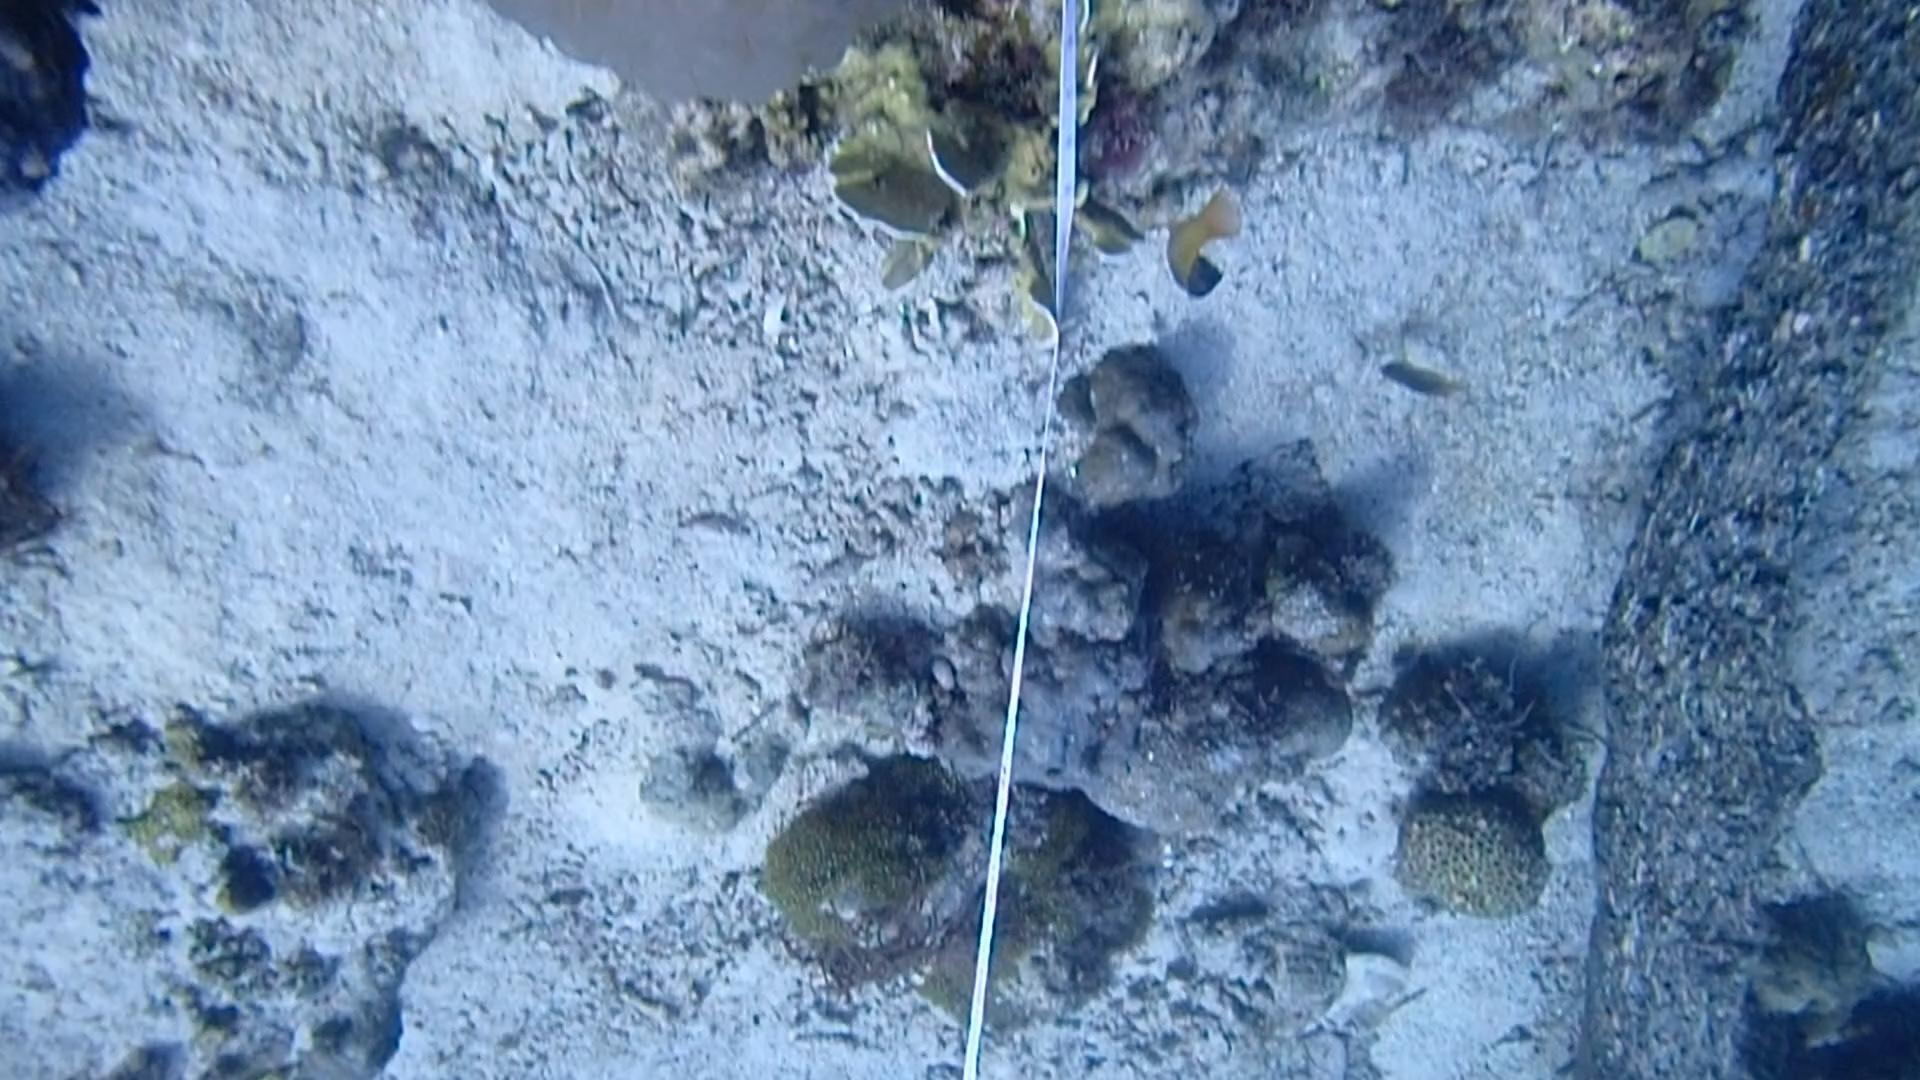Light Fish: (1367, 345, 1456, 410)
Yellow-Blue Fish: (1141, 191, 1267, 307)
